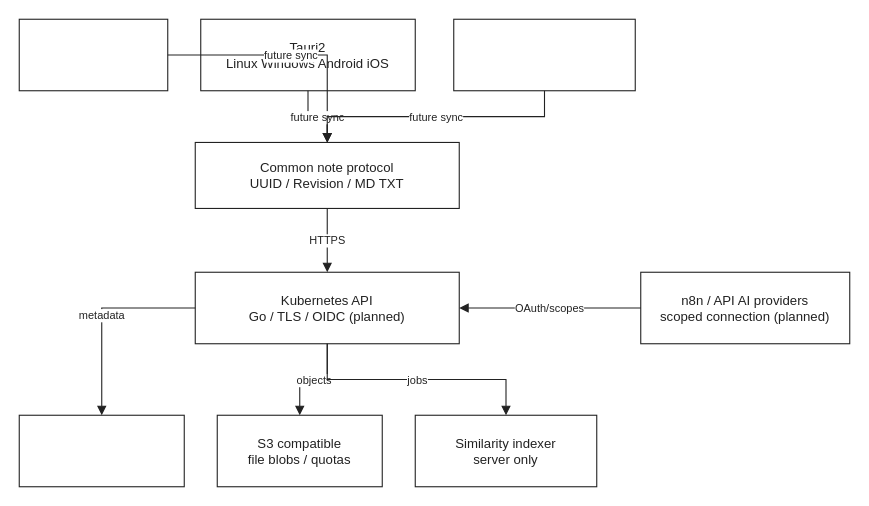
Image size: 869x506. Some labels were removed from this diagram. The centre of each missing label's shape, as x and y in pixels:
"FreeBSD ARM64 Rust dedicated" goes at pixel 544 54.
"PostgreSQL accounts / version" goes at pixel 101 450.
"Web PWA IndexedDB" goes at pixel 93 54.
